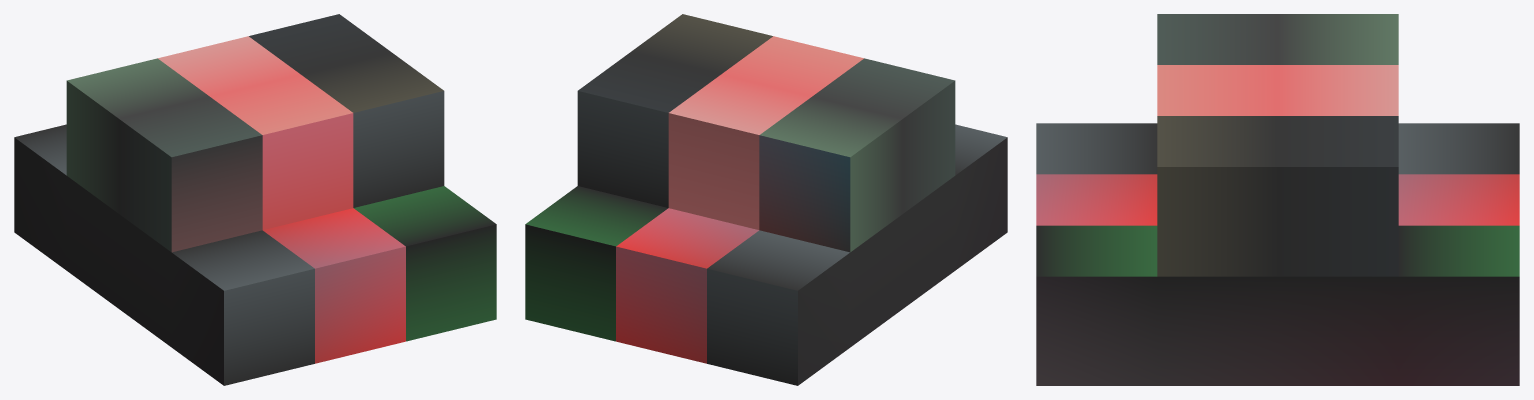
The model's file is Cable_Connection_B_00.fbx.
The picture shows the model from 3 angles, left to right: view 1: azimuth 30°, elevation 25°; view 2: azimuth 150°, elevation 25°; view 3: azimuth 270°, elevation 25°; orthographic projection. The views are drawn at different scales.
Parts seen in each view (by area): view 1: Cable_Connection_B_00; view 2: Cable_Connection_B_00; view 3: Cable_Connection_B_00.
Part boxes in pixels (x1=…): Cable_Connection_B_00: x1=14, y1=14, x2=496, y2=385; Cable_Connection_B_00: x1=525, y1=14, x2=1007, y2=385; Cable_Connection_B_00: x1=1036, y1=14, x2=1519, y2=385.
Size of the model in its own units: 15 by 10 by 20.
